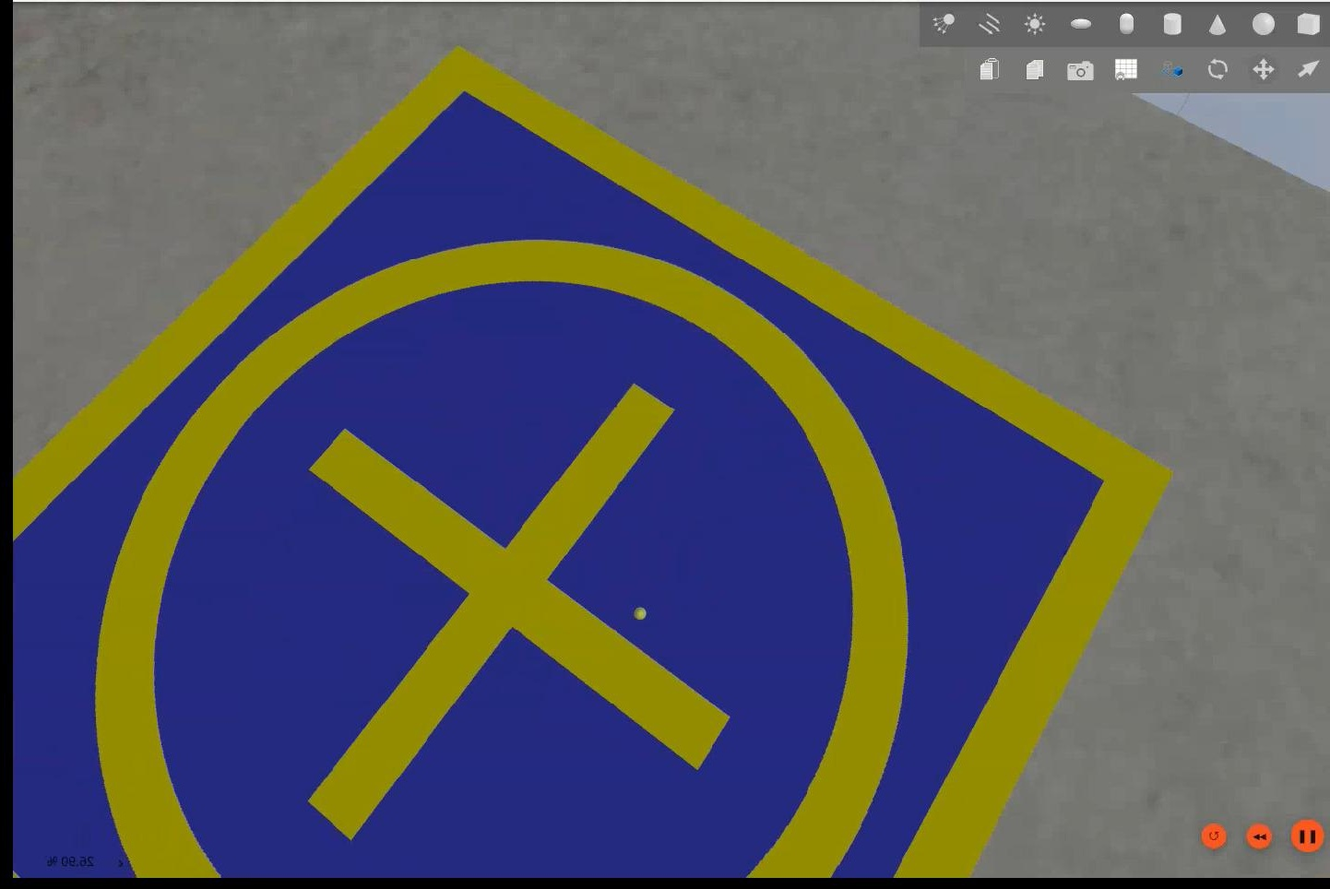small_base: (10, 47, 1176, 879)
